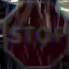Stop: (3, 2, 68, 68)
